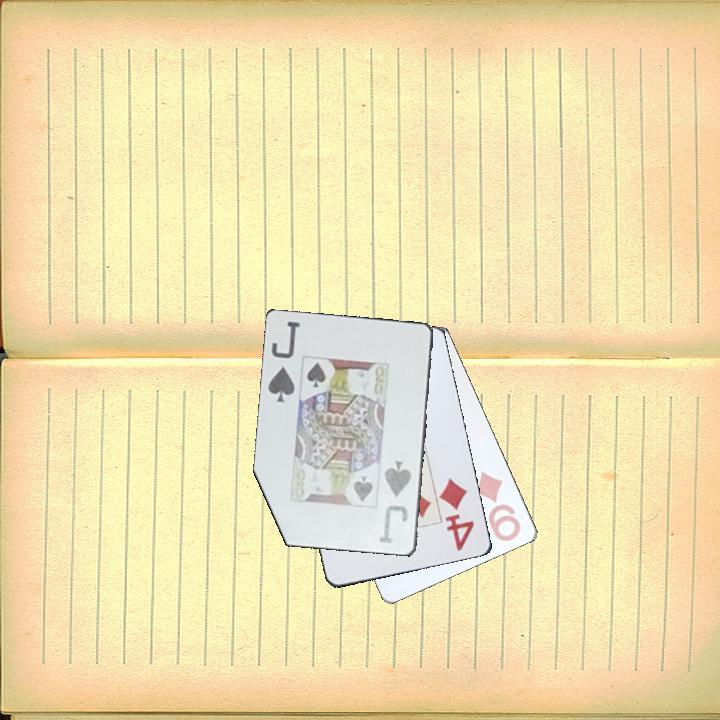4d: (437, 475, 477, 554)
9d: (473, 468, 524, 545)
Js: (376, 458, 414, 549), (264, 318, 303, 406)
